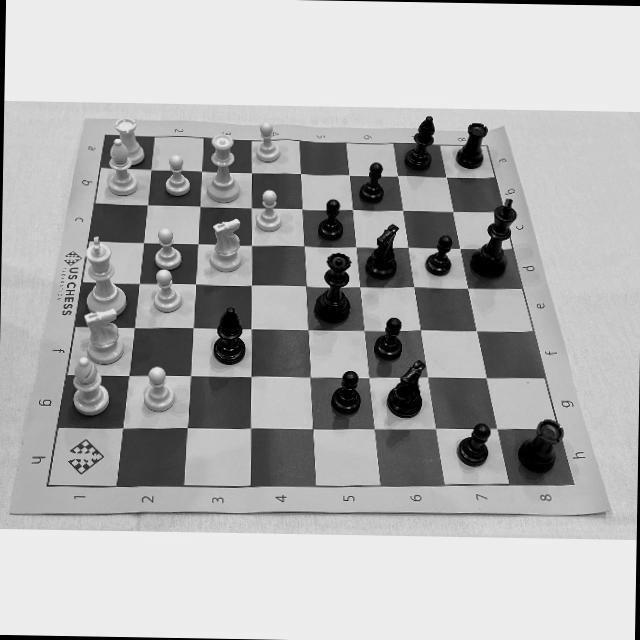chessboard: (48, 135, 574, 487)
